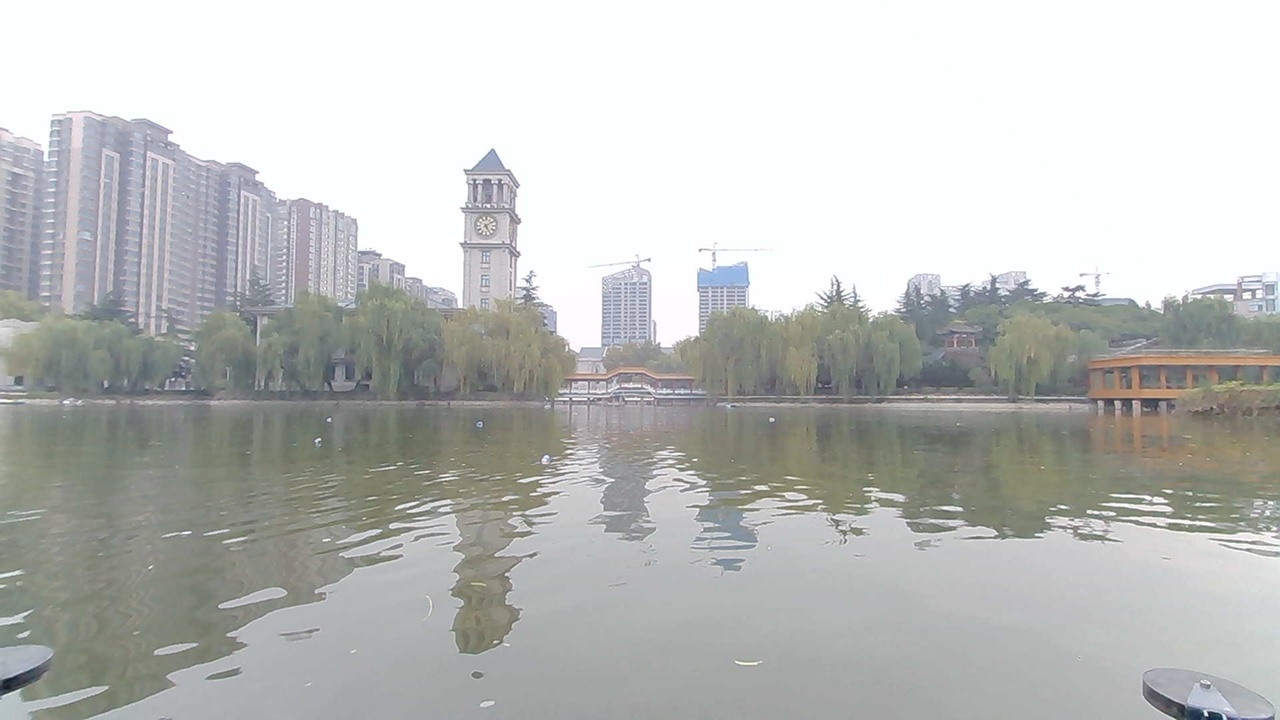bottle: (529, 445, 589, 478), (464, 407, 515, 440), (289, 441, 330, 464), (749, 410, 788, 433), (320, 403, 356, 427)
